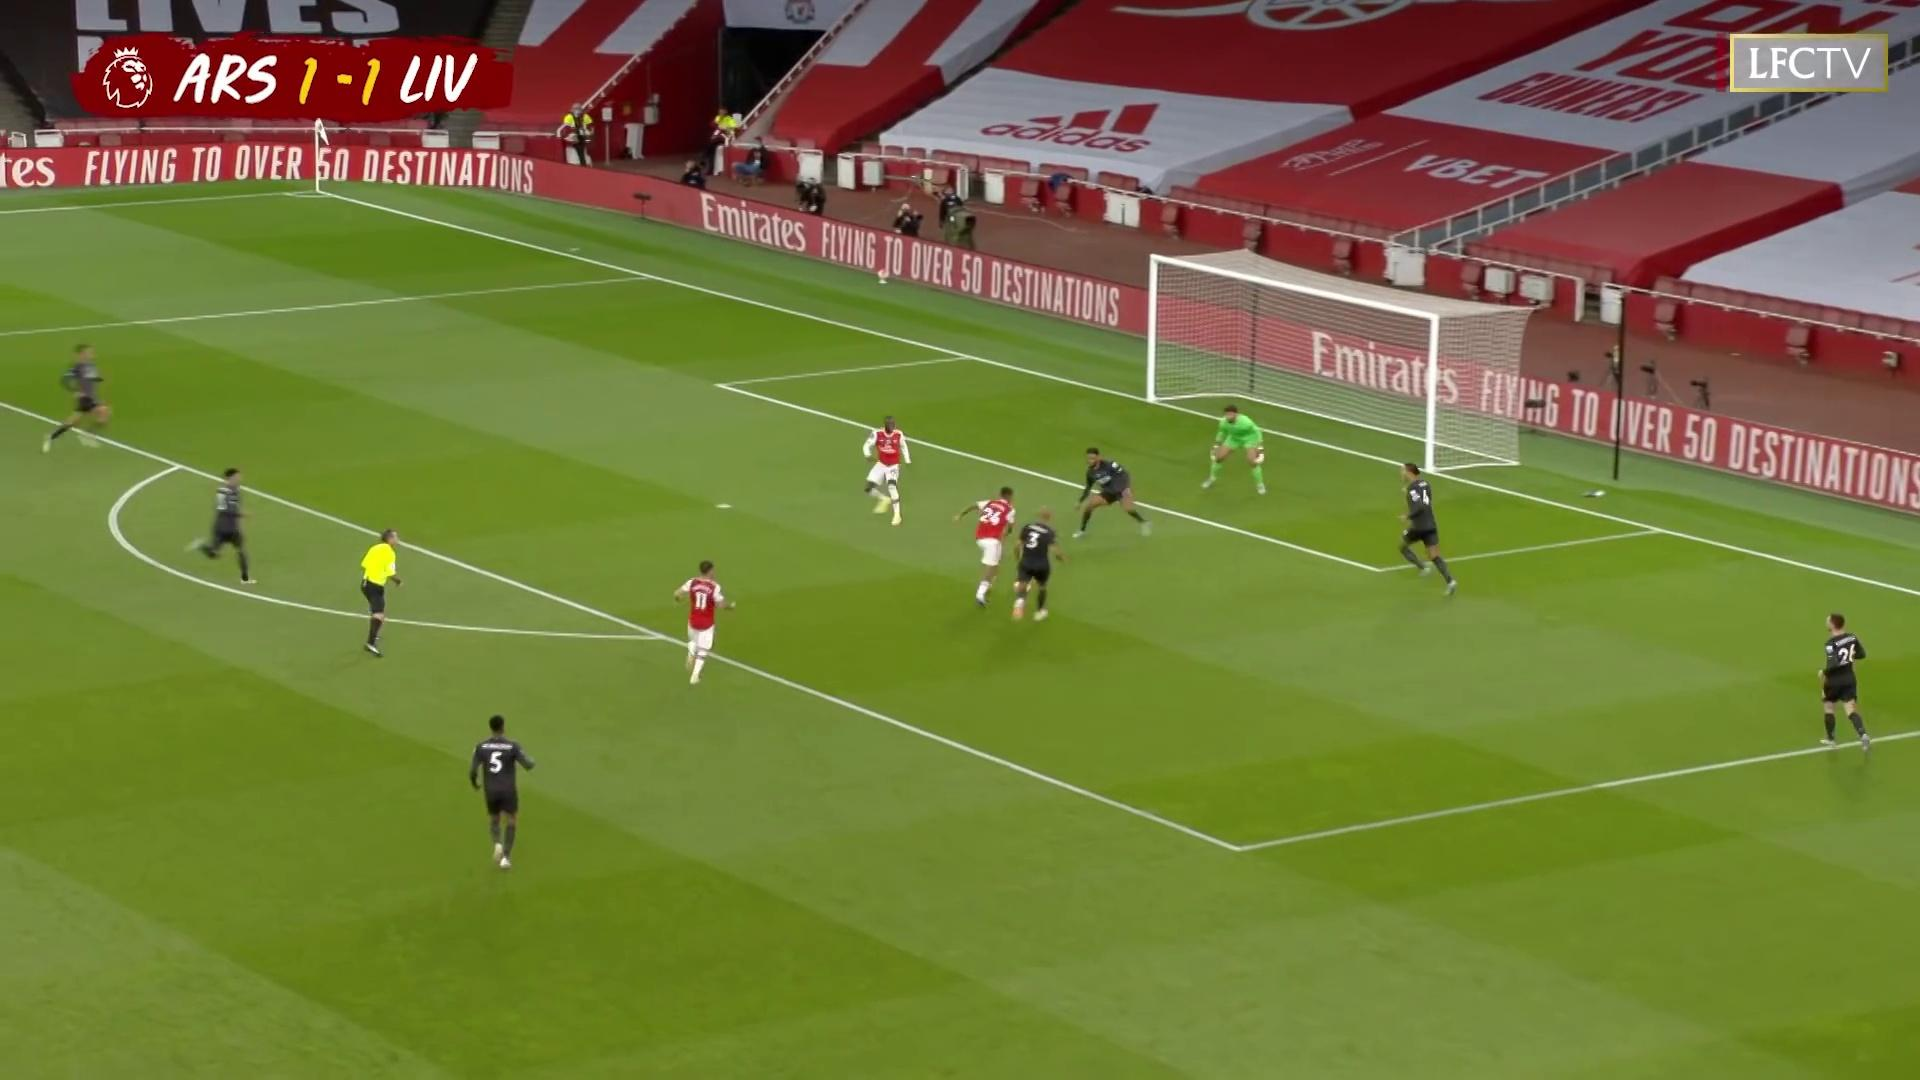ball: (1013, 575, 1031, 595)
